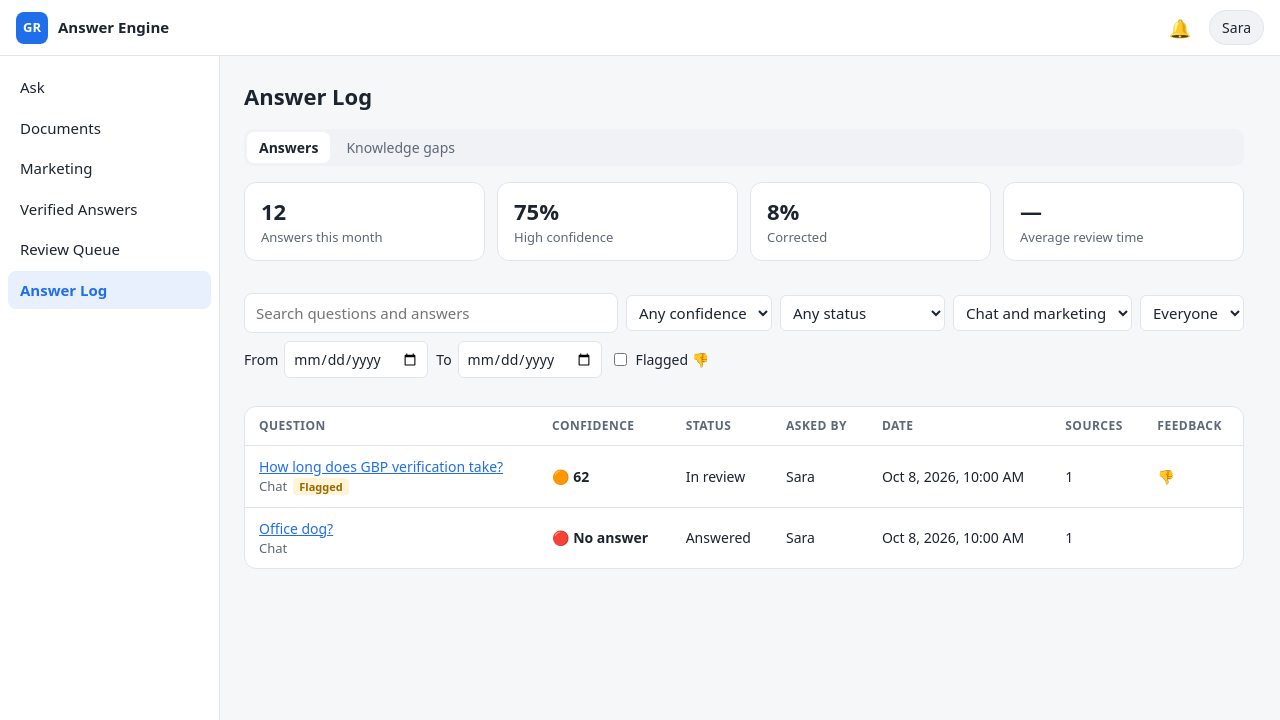
Test: reviewers can't review from the log
The image size is (1280, 720).
Click the button "How long does GBP verification take?" at point(381, 466), box [259,456,503,477]
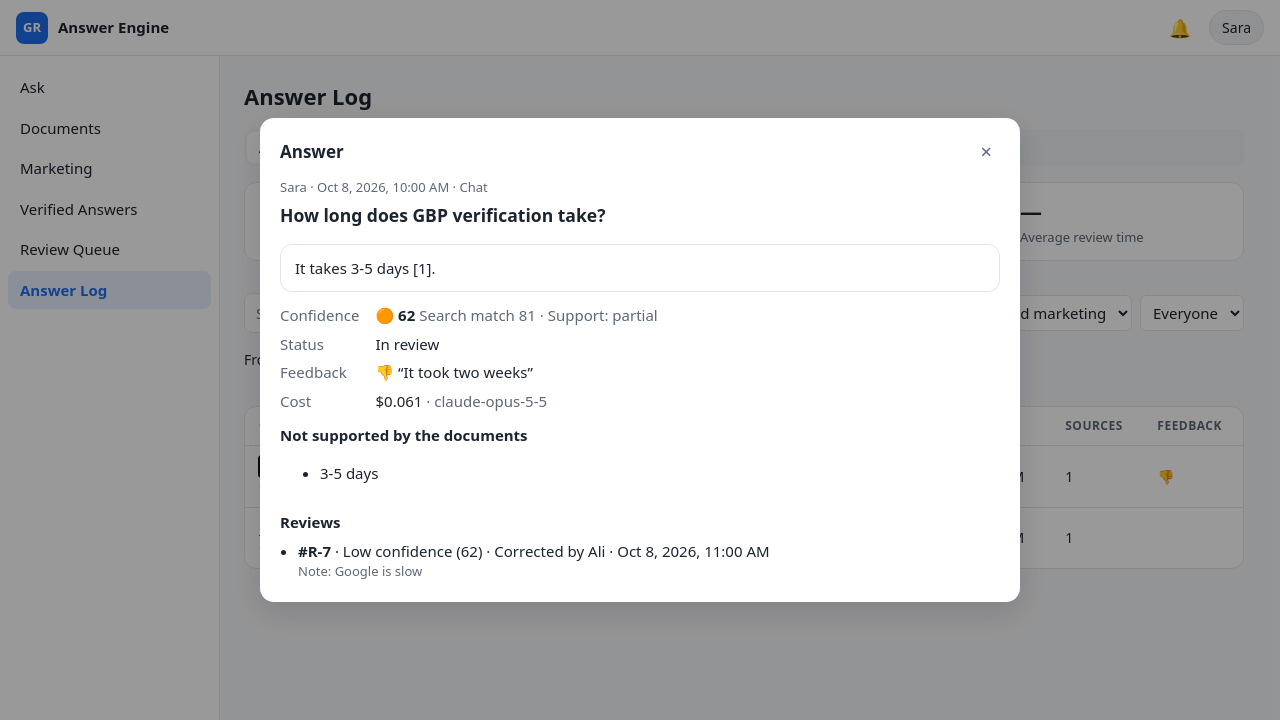
expect the text "Search match 81 · Support: partial" is shown: met, box [419,305,658,325]
